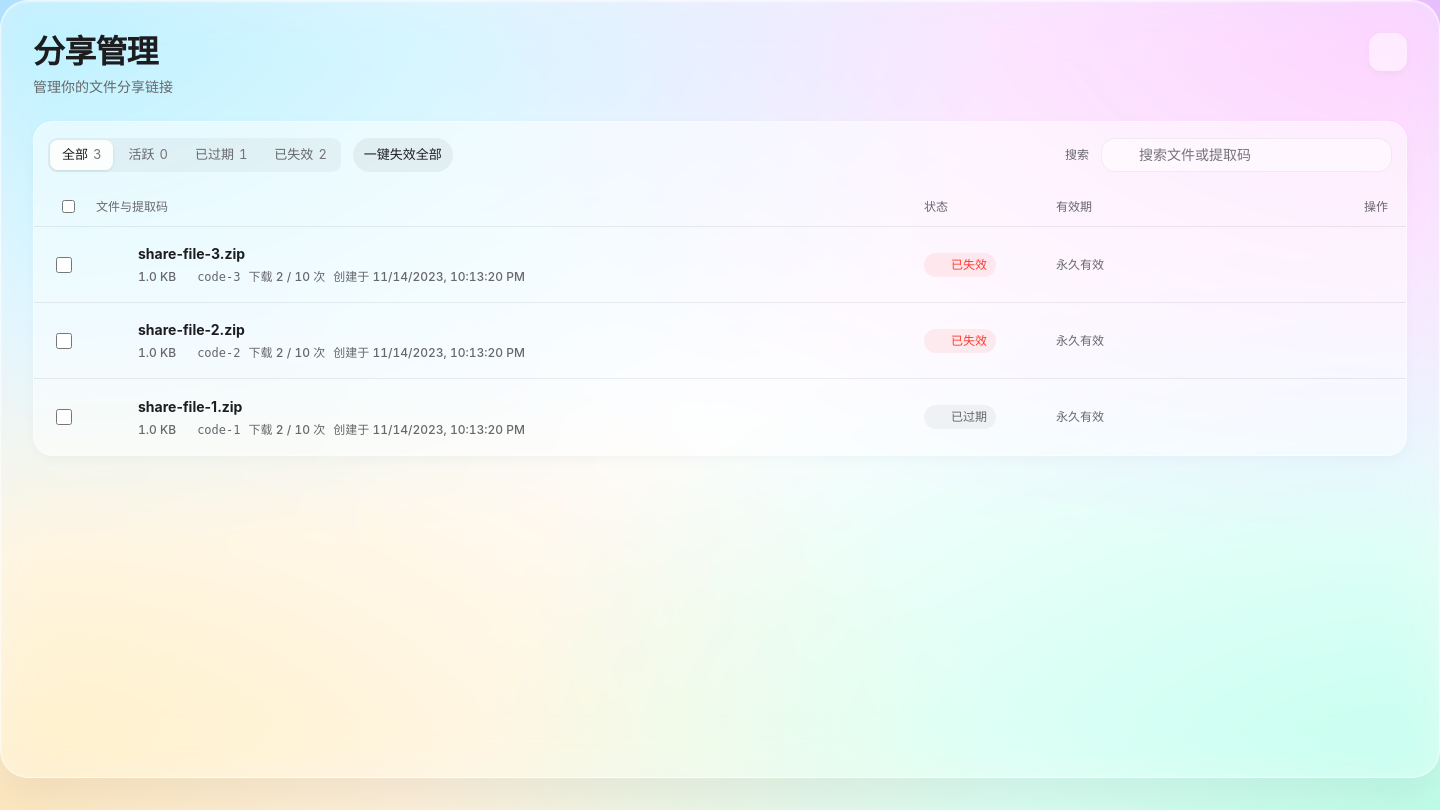
Test: SharesPage（V1 分享管理页） › C14：V2 新增状态集中映射到 V1 既有失效/过期展示
Check: the text "share-file-1.zip" is shown, box [138, 398, 242, 415]
Check: the text "share-file-1.zip" shows "已过期", box [951, 409, 987, 424]
筛选按 V1 口径：exhausted 落在「已过期」
Click the tab "已过期1": (221, 155) [183, 140, 259, 170]
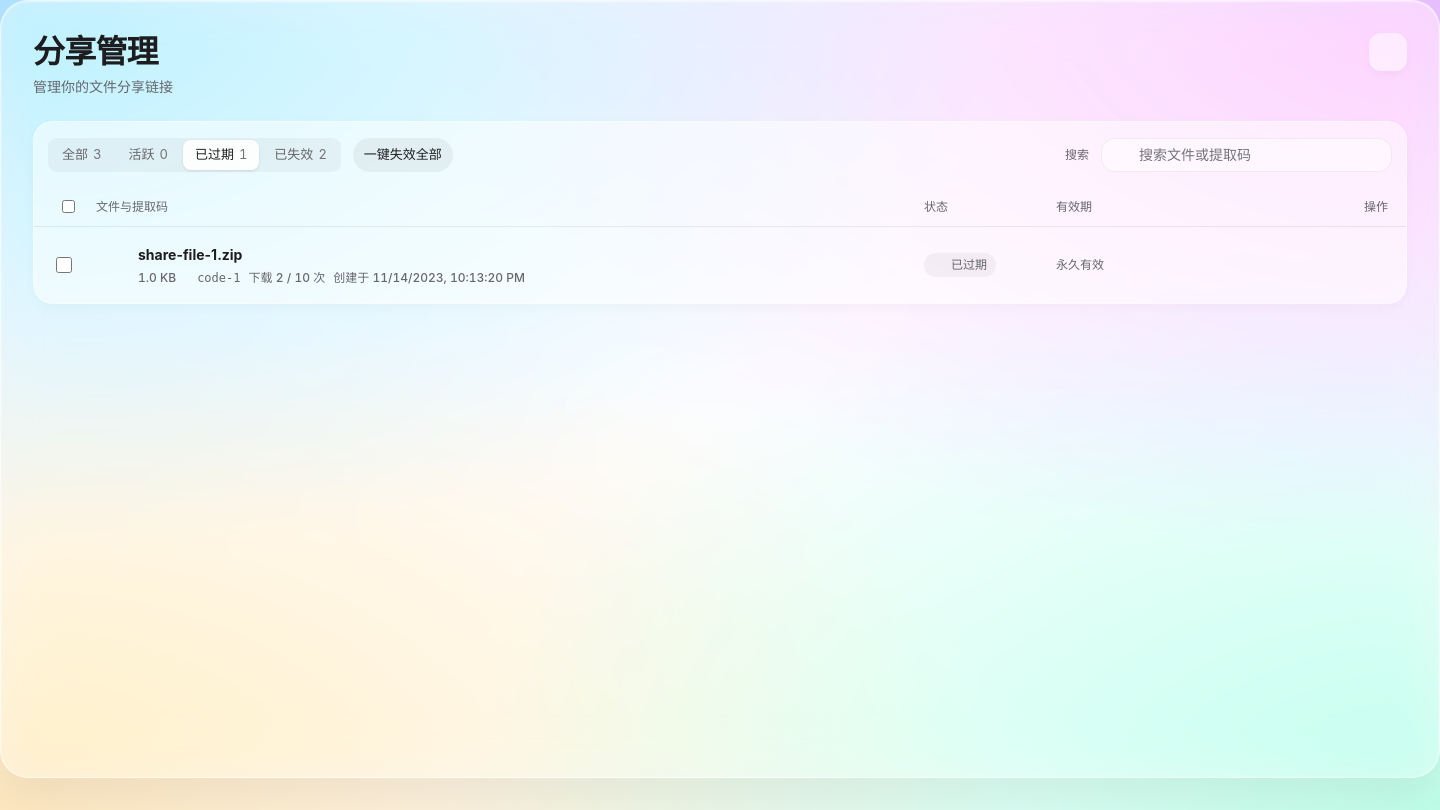
Check: the text "share-file-1.zip" is shown, box [138, 246, 242, 263]
Check: the button "share-file-2.zip" is gone
Click the tab "已失效2": (301, 155) [262, 140, 339, 170]
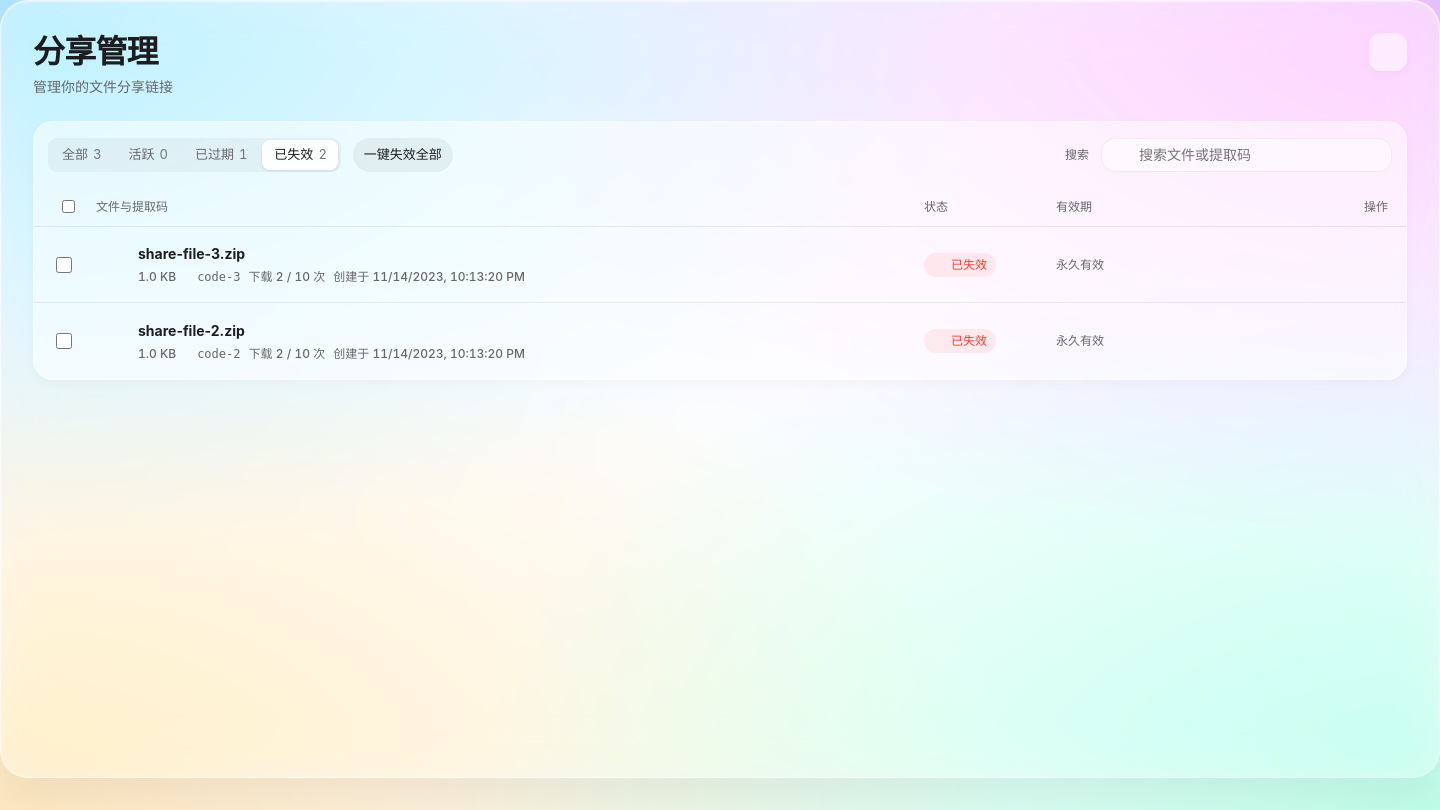
Check: the text "share-file-2.zip" is shown, box [138, 322, 245, 339]
Check: the text "share-file-3.zip" is shown, box [138, 245, 245, 262]
Check: the button "share-file-1.zip" is gone
